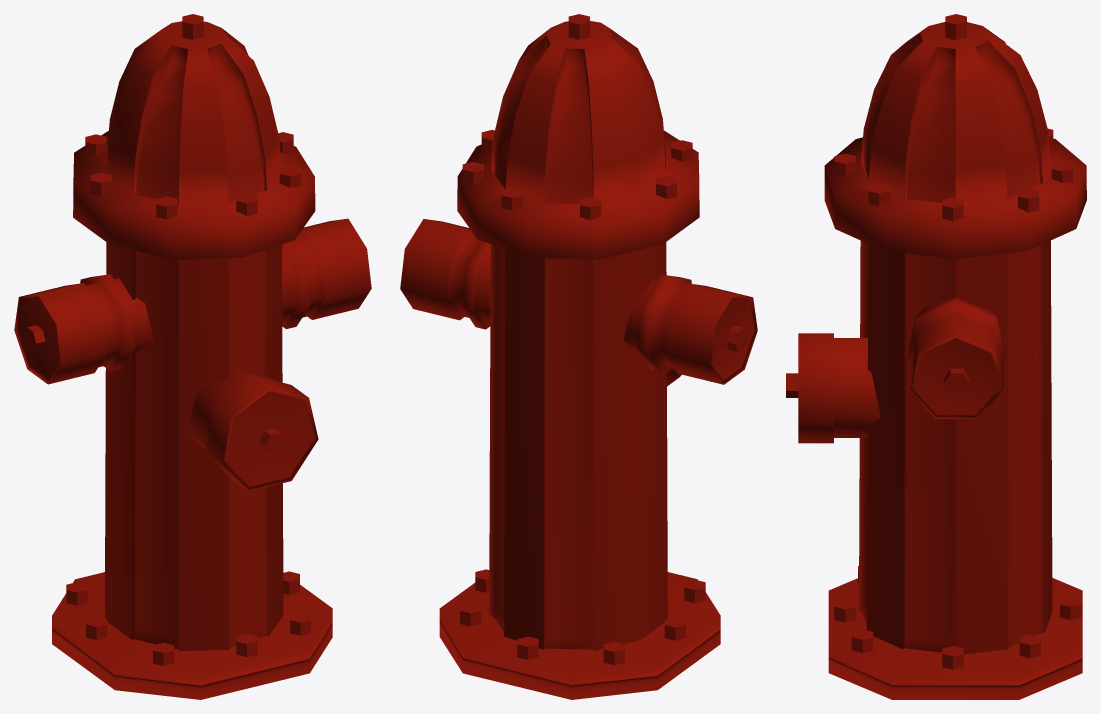
The model's file is Fire_Post.fbx.
3 views of the same model, side by side, from view 1: azimuth 30°, elevation 25°; view 2: azimuth 150°, elevation 25°; view 3: azimuth 270°, elevation 25° (orthographic).
Visible parts, largest first — view 1: Fire_Post; view 2: Fire_Post; view 3: Fire_Post.
Part boxes in pixels (x1,y1,x2,y2): Fire_Post: [14, 14, 371, 699]; Fire_Post: [400, 14, 757, 699]; Fire_Post: [786, 14, 1086, 699].
Bounding box in the file's own units: 1.49 × 2.72 × 1.18.
